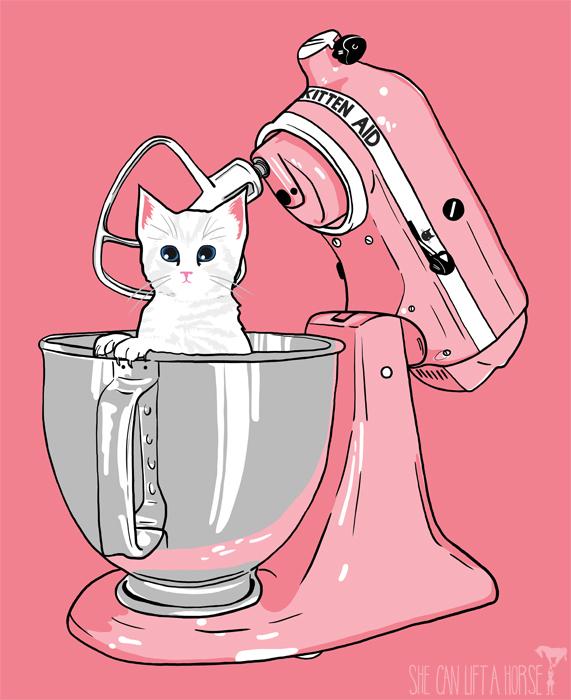cat: (89, 174, 265, 372)
